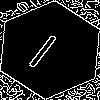I: (25, 25, 66, 70)
